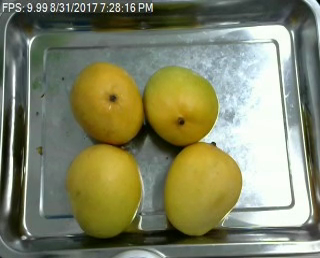Mango: (164, 143, 242, 236), (68, 144, 145, 236), (69, 63, 144, 143), (143, 65, 215, 143)
